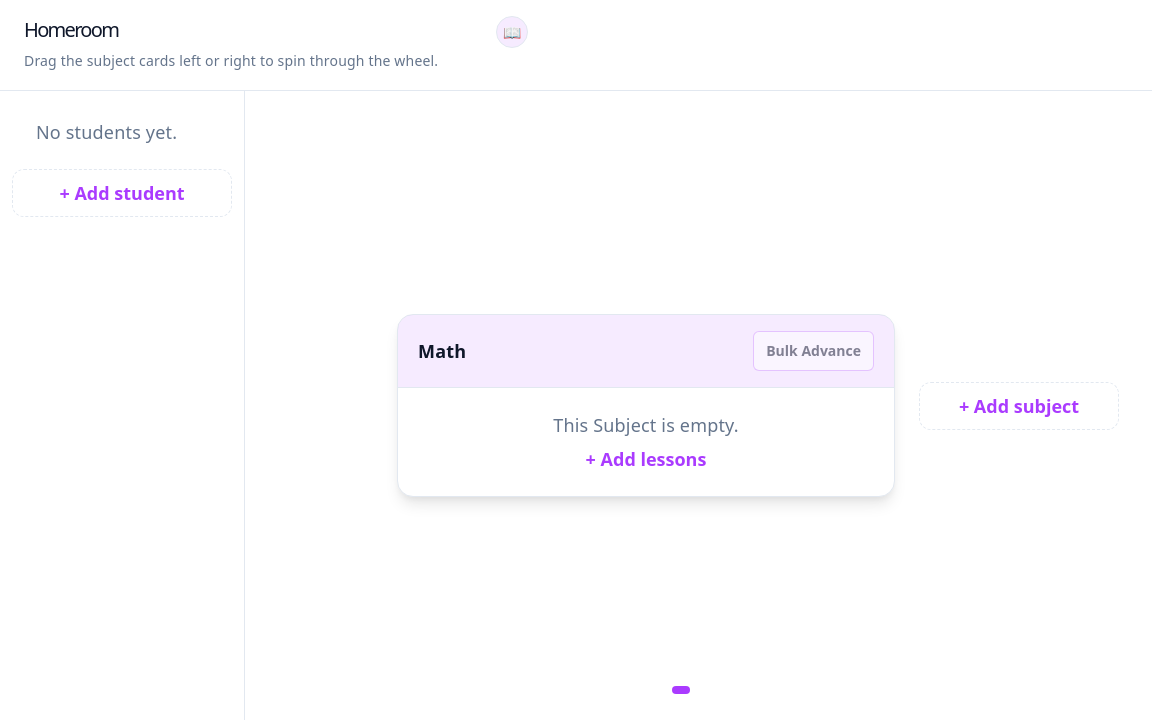
ClassBoard › wires up the book icon menu's "Save Class Template" item: opens a name form prefilled with the class name
Expected: the field labelled "Template name" is not shown
Click the button named "Add lessons menu" at (512, 32), box [496,16,528,48]
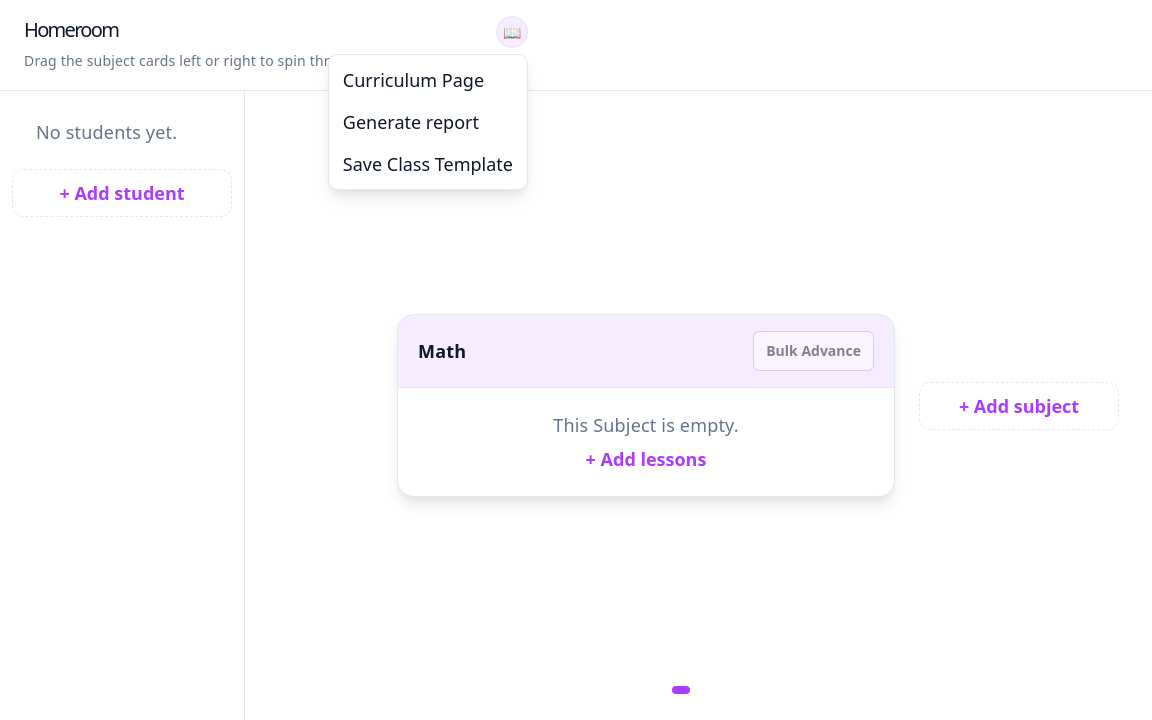
Click the button "Save Class Template" at (428, 164), box [333,143,523,185]
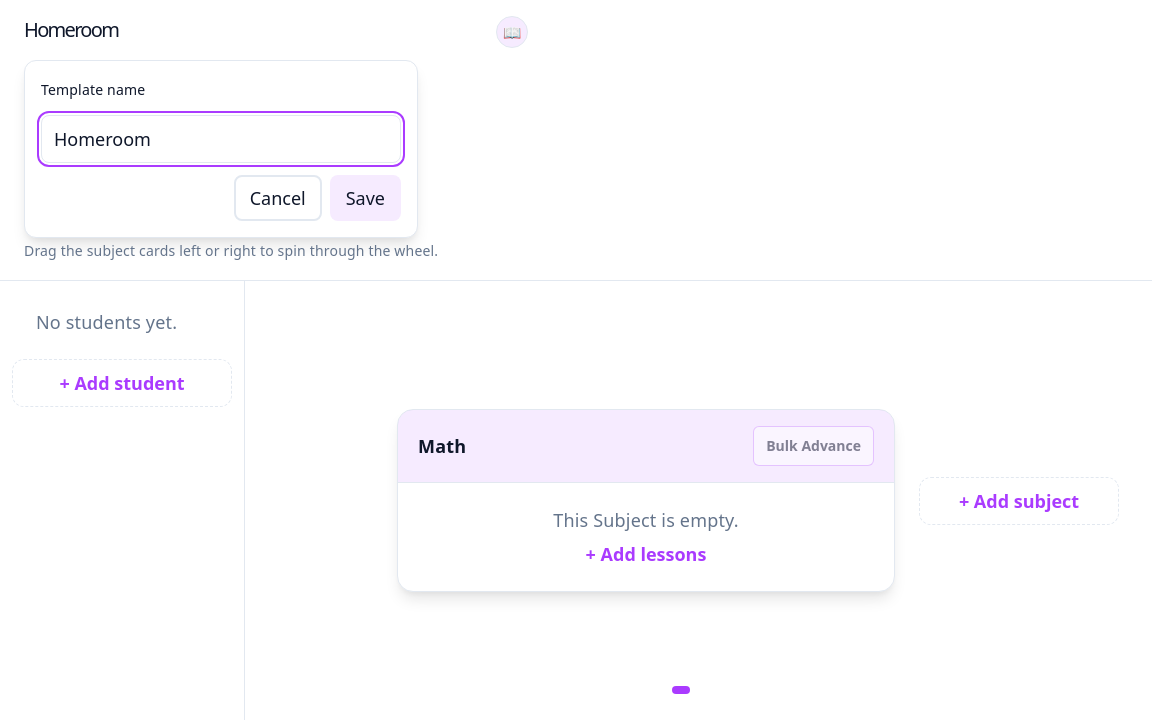
Expected: the button "Save Class Template" is gone
Expected: the field labelled "Template name" holds "Homeroom", [41,115,401,163]
